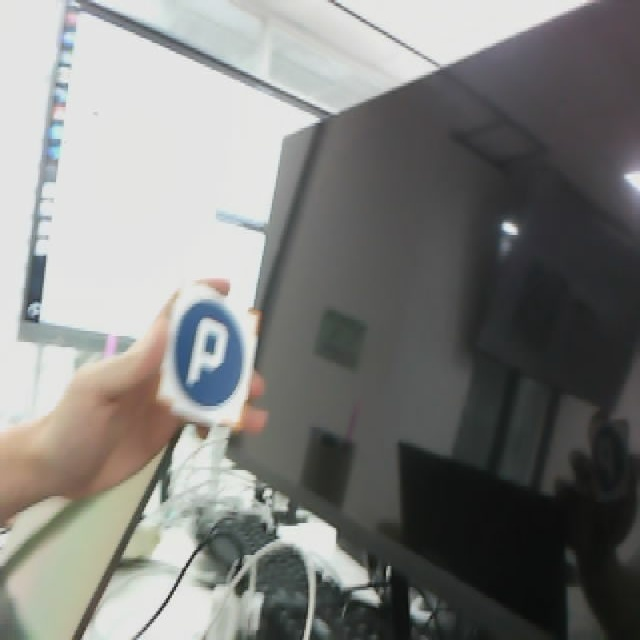parking: (151, 275, 262, 437)
